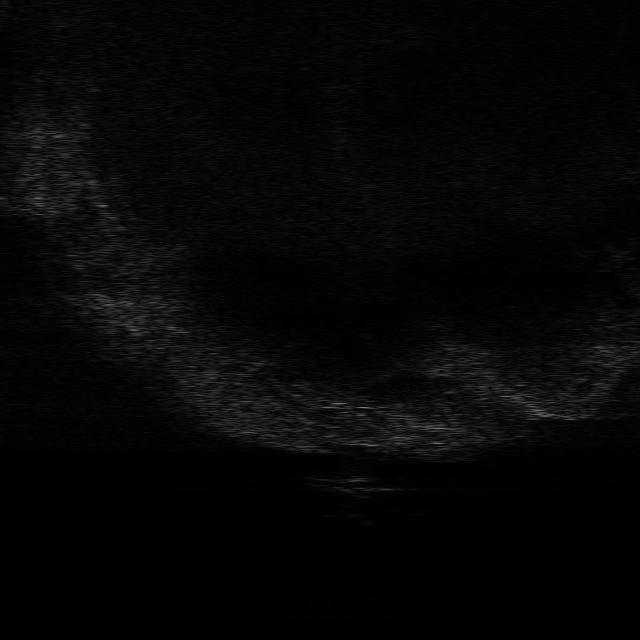plane: (306, 472, 405, 501)
